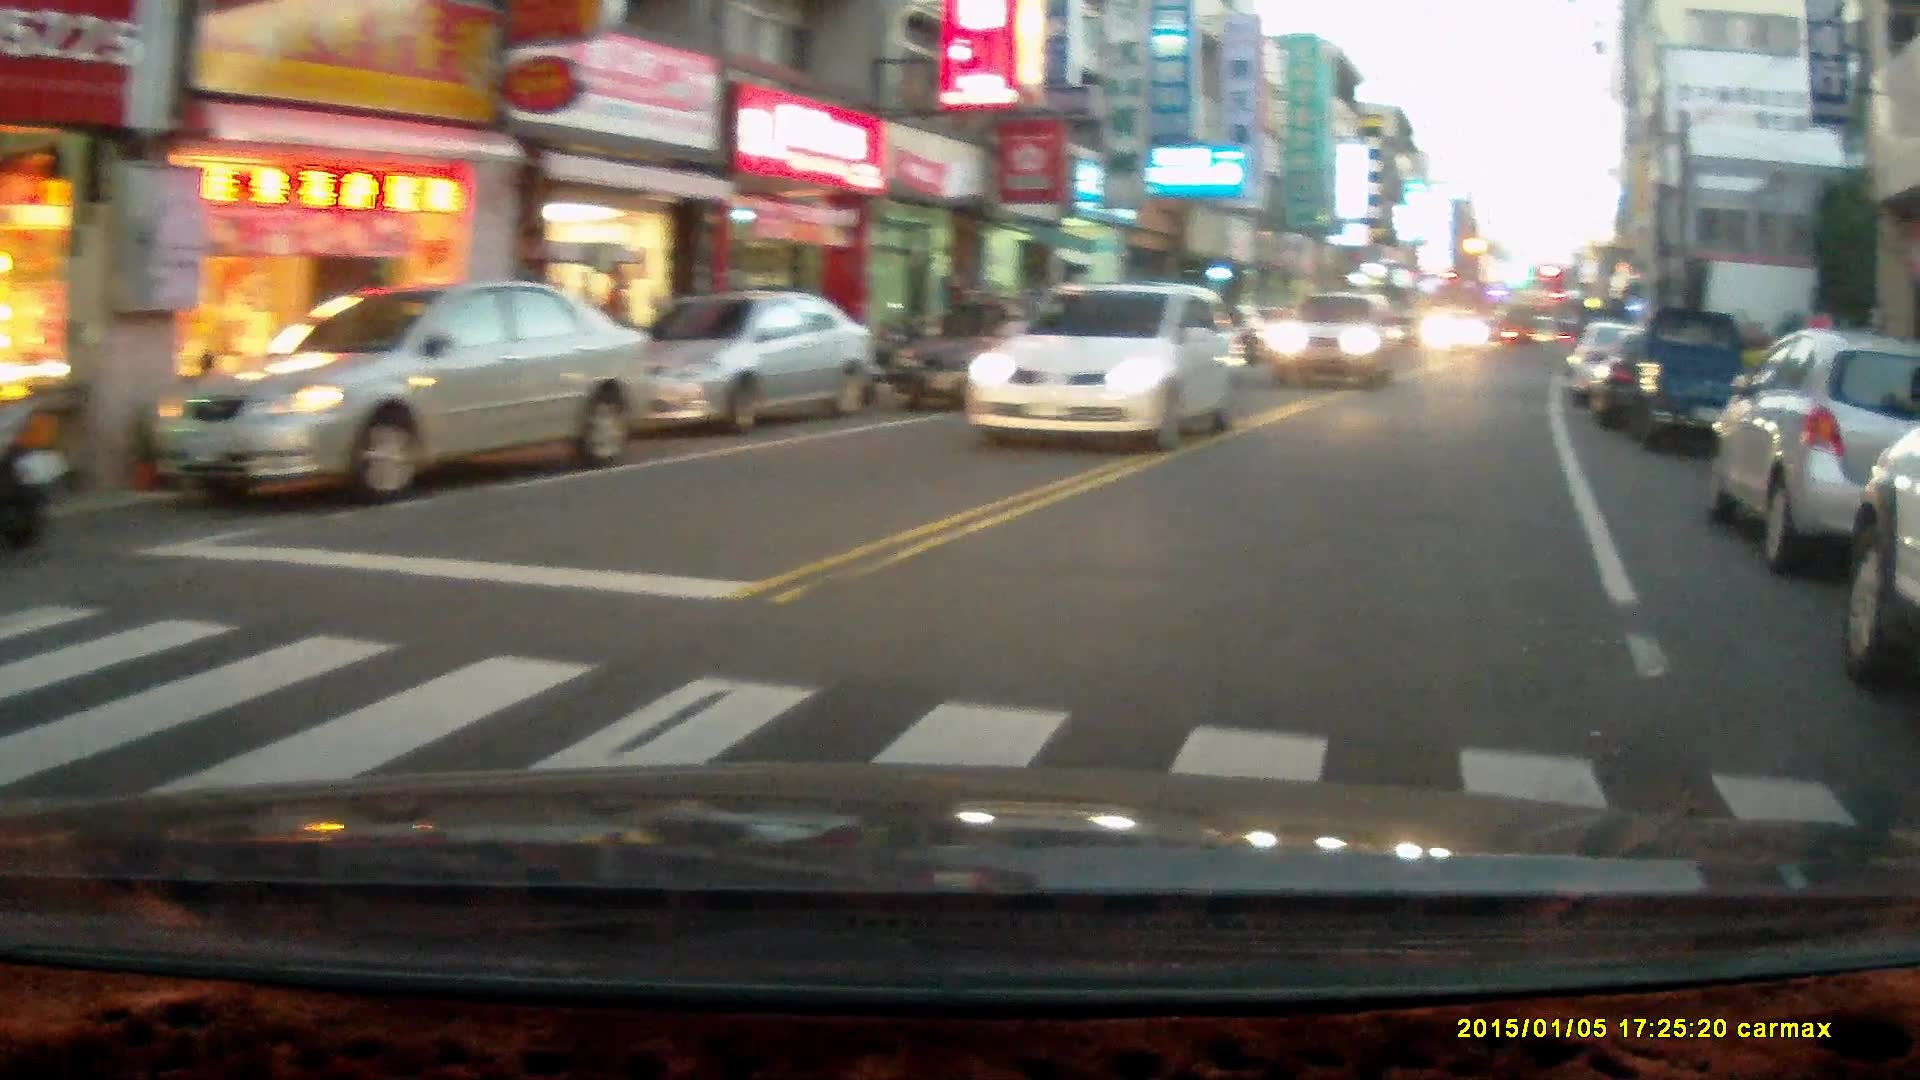vehicle: (150, 280, 641, 509), (1706, 327, 1920, 575), (963, 280, 1251, 452), (591, 289, 881, 430), (1607, 306, 1755, 448), (1266, 289, 1408, 385), (1563, 320, 1700, 414), (1422, 306, 1494, 356)
